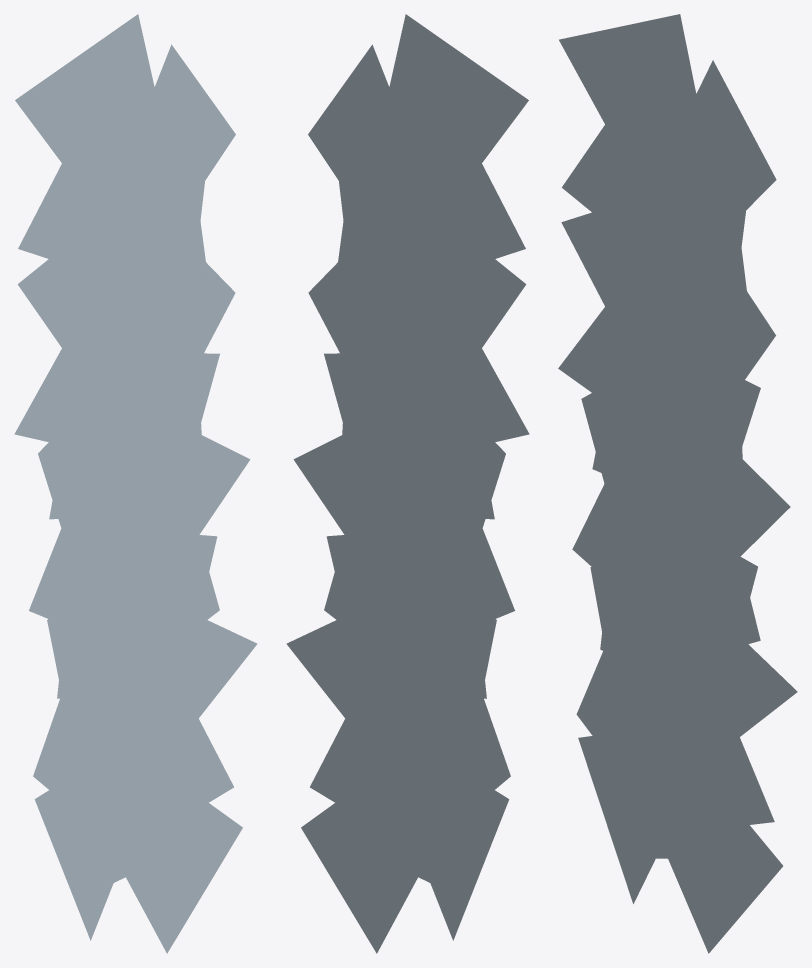
Rendered from 2032_Flamewave_LowFireFront.fbx.
3 views of the same model, side by side, from view 1: azimuth 30°, elevation 25°; view 2: azimuth 150°, elevation 25°; view 3: azimuth 330°, elevation 25° (orthographic).
Parts seen in each view (by area): view 1: PART_GroundFireOuterFront, PART_GroundFireBrightFront; view 2: PART_GroundFireOuterFront, PART_GroundFireBrightFront; view 3: PART_GroundFireOuterFront, PART_GroundFireBrightFront.
Part boxes in pixels (x1,y1,x2,y2): PART_GroundFireOuterFront: [14, 14, 257, 953]; PART_GroundFireBrightFront: [65, 70, 199, 905]; PART_GroundFireOuterFront: [286, 14, 529, 953]; PART_GroundFireBrightFront: [344, 70, 478, 905]; PART_GroundFireOuterFront: [558, 14, 797, 953]; PART_GroundFireBrightFront: [608, 75, 736, 893].
Size of the model in its own units: 64.87 by 241 by 3.93e-05.
